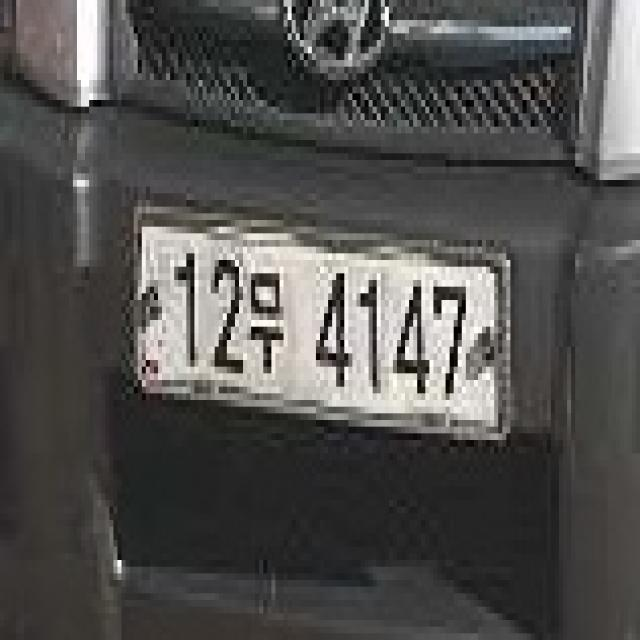1: (166, 240, 207, 373), (352, 267, 389, 413)
2: (207, 253, 247, 387)
4: (308, 260, 356, 407), (393, 280, 437, 413)
7: (429, 280, 474, 413)
license_plate: (126, 193, 514, 460)
mu: (247, 260, 292, 400)
